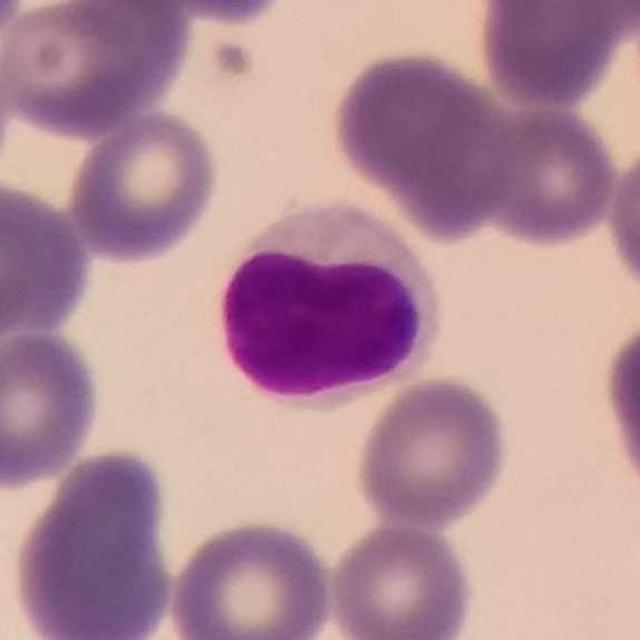Lymphocyte: (210, 193, 447, 410)
Platelets: (212, 37, 258, 79)
RBC: (325, 44, 524, 232), (8, 444, 179, 639), (1, 1, 194, 138), (351, 373, 514, 530), (66, 107, 222, 265), (471, 99, 622, 249), (165, 515, 338, 640), (323, 519, 480, 639), (473, 0, 631, 111), (0, 326, 106, 491), (0, 174, 96, 340), (597, 308, 640, 510), (603, 131, 640, 302), (473, 0, 639, 37), (0, 18, 18, 194), (184, 0, 291, 28), (0, 1, 35, 60)
